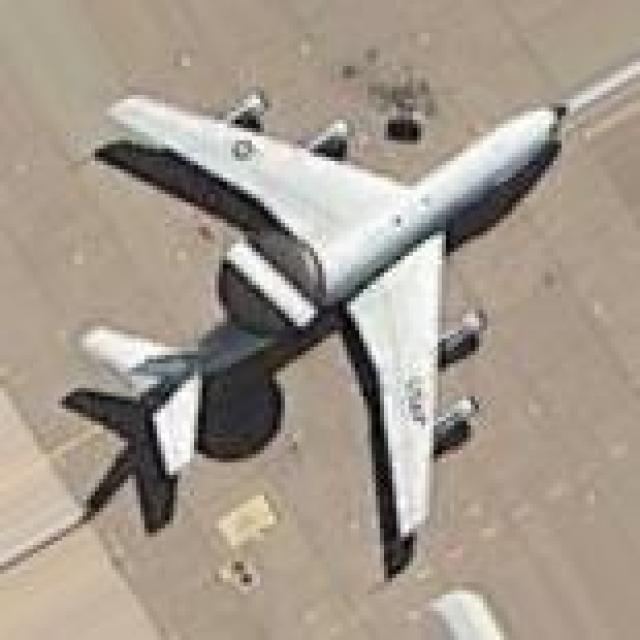E-3_TopDown: (49, 25, 636, 582)
